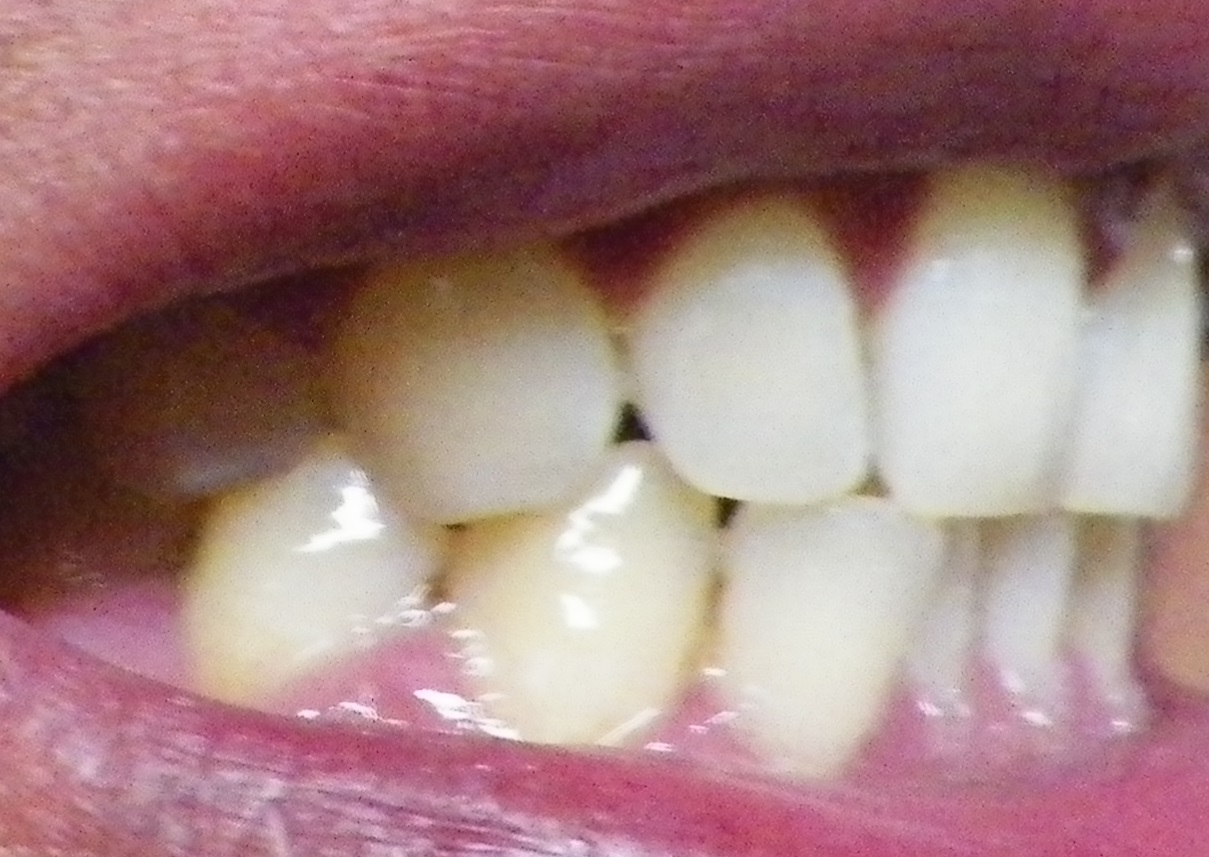boca: (107, 178, 1196, 752)
